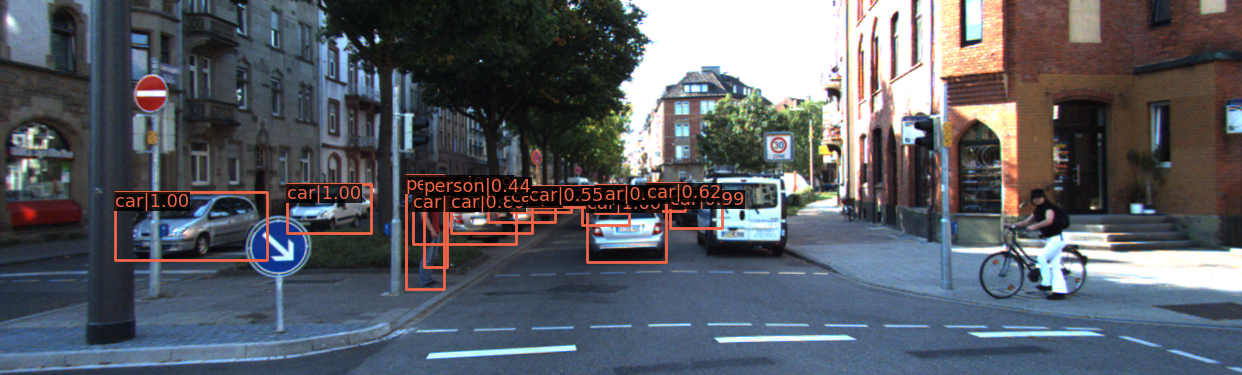car: (119, 194, 263, 261), (385, 189, 505, 249), (588, 196, 666, 263), (434, 194, 539, 234), (481, 190, 555, 223), (674, 192, 726, 229), (311, 189, 375, 218), (582, 189, 625, 229), (517, 190, 572, 212)
person: (410, 177, 445, 288)
